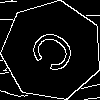C: (27, 26, 86, 82)
